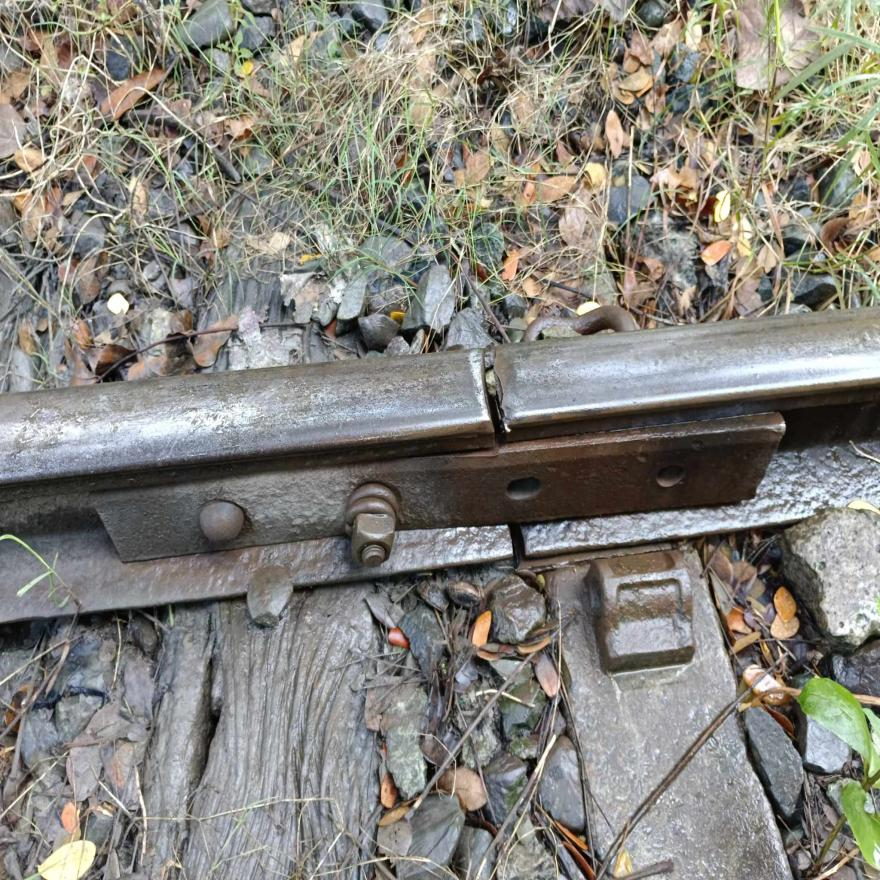railway-gap: (416, 308, 550, 475)
